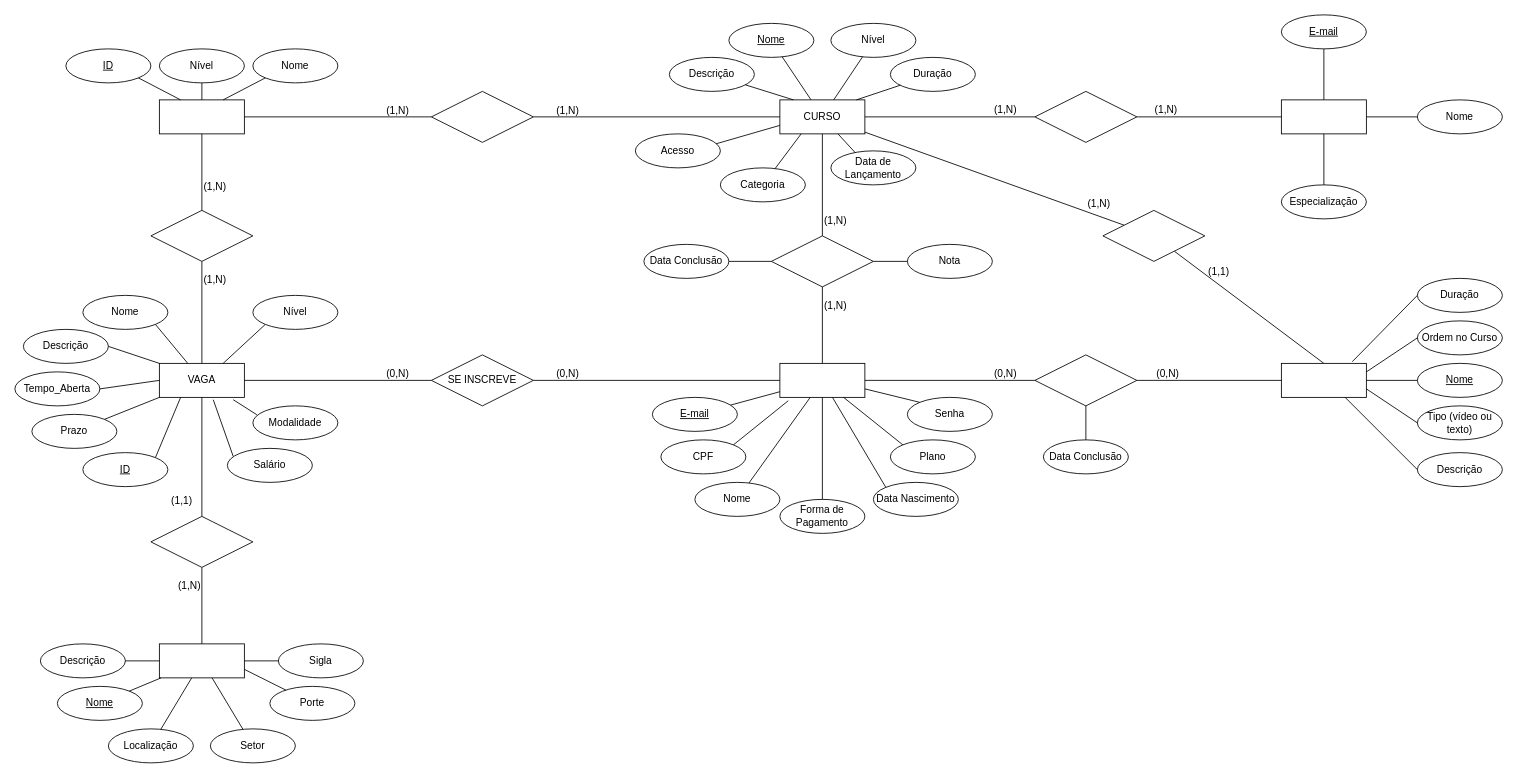
The diagram is 1517 pixels wide and 778 high, and some of its shapes have lost their labels. Here are the shapes that lost their labels. From the top down, the box of each, then its label:
(159, 99, 244, 134): HABILIDADE
(431, 91, 533, 142): HABILIDADE CURSO
(1034, 91, 1137, 142): MINISTRA
(1281, 99, 1366, 134): PROFESSOR
(150, 210, 253, 261): HABILIDADE VAGA
(1102, 210, 1205, 261): CONTÉM
(771, 235, 873, 287): ESTUDA
(779, 363, 865, 397): ALUNO
(1034, 354, 1137, 406): ASSISTE
(1281, 363, 1366, 397): AULA
(150, 516, 253, 567): OFERECE
(159, 643, 244, 678): EMPRESA
